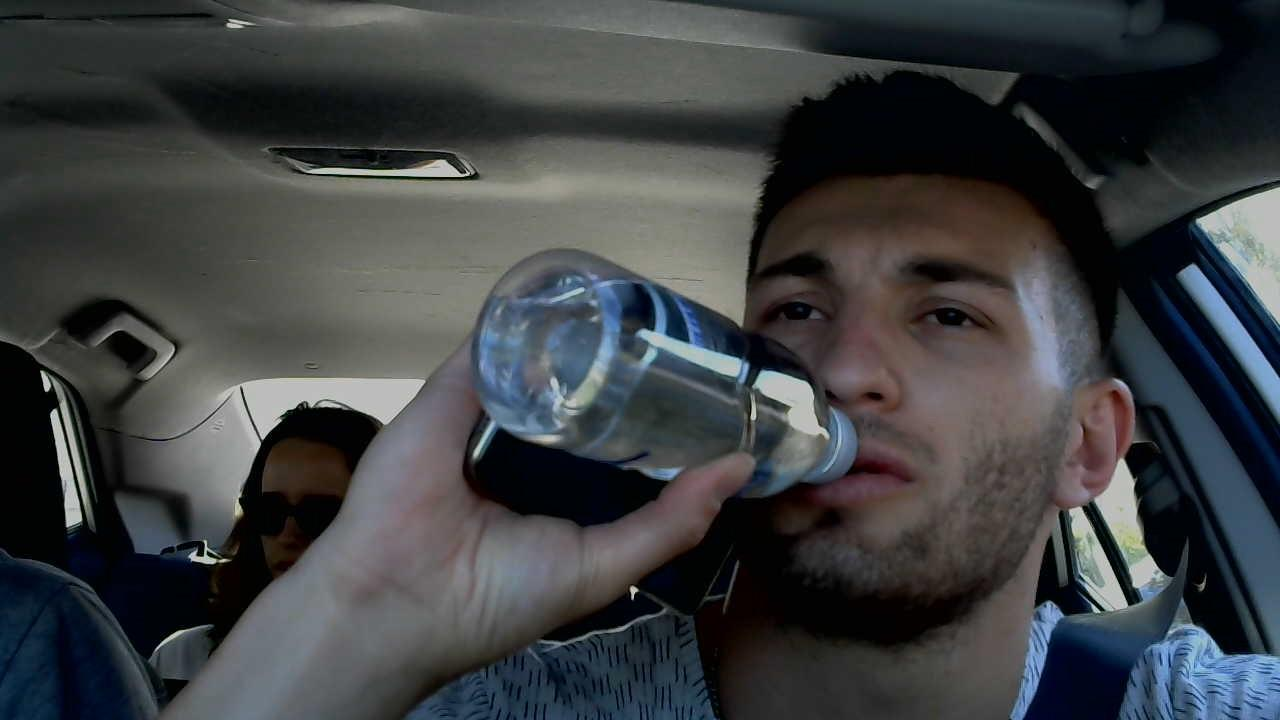Drinking: (471, 170, 1133, 604)
